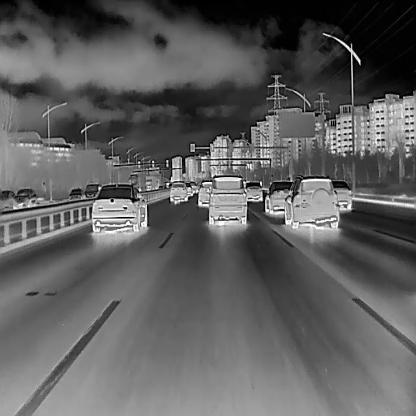car: (283, 175, 338, 228), (90, 182, 148, 232), (204, 172, 248, 224), (264, 179, 295, 215), (328, 177, 353, 210), (196, 179, 214, 207), (12, 186, 36, 207), (168, 180, 188, 202), (243, 178, 262, 201), (83, 183, 103, 200), (0, 187, 15, 208), (66, 187, 84, 201), (184, 180, 192, 196), (188, 182, 197, 194)
truck: (127, 172, 146, 190), (144, 172, 158, 190)
